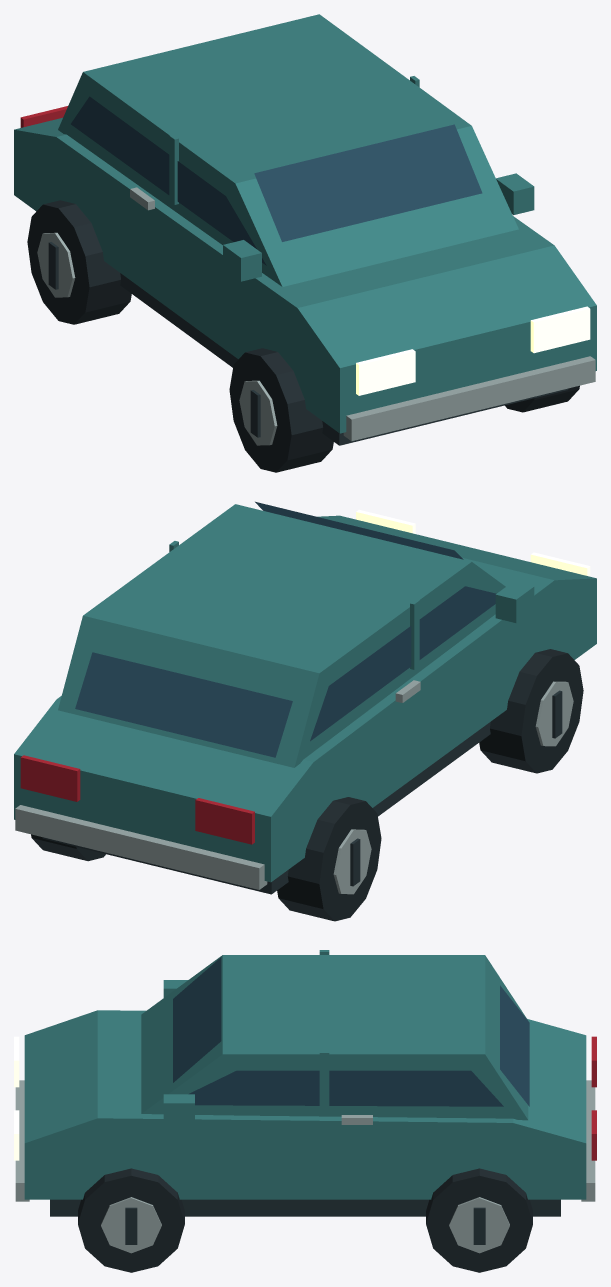
File: car-hatch.glb
The picture shows the model from 3 angles, top to bottom: view 1: azimuth 30°, elevation 25°; view 2: azimuth 150°, elevation 25°; view 3: azimuth 270°, elevation 25°; orthographic projection. The views are drawn at different scales.
Visible parts, largest first — view 1: CivilianRoot_teal, CivilianRoot_glass, CivilianRoot_steel, WheelRearLeft_rubber, WheelFrontLeft_rubber, CivilianRoot_lamp, CivilianRoot_dark, WheelFrontLeft_steel, WheelRearLeft_steel, WheelFrontRight_rubber; view 2: CivilianRoot_teal, CivilianRoot_glass, CivilianRoot_steel, WheelFrontLeft_rubber, WheelRearLeft_rubber, CivilianRoot_red, CivilianRoot_dark, WheelFrontLeft_steel, WheelRearLeft_steel, CivilianRoot_lamp, WheelRearRight_rubber; view 3: CivilianRoot_teal, CivilianRoot_glass, WheelFrontRight_rubber, WheelRearRight_rubber, CivilianRoot_dark, CivilianRoot_steel, WheelFrontRight_steel, WheelRearRight_steel, CivilianRoot_lamp, CivilianRoot_red, WheelFrontRight_dark, WheelRearRight_dark.
Boxes of the visible parts, left/top/right/bottom form: CivilianRoot_teal: left=14, top=14, right=596, bottom=433; CivilianRoot_glass: left=71, top=96, right=482, bottom=265; CivilianRoot_steel: left=130, top=187, right=595, bottom=441; WheelRearLeft_rubber: left=27, top=200, right=131, bottom=324; WheelFrontLeft_rubber: left=229, top=348, right=333, bottom=472; CivilianRoot_lamp: left=356, top=306, right=590, bottom=395; CivilianRoot_dark: left=120, top=273, right=568, bottom=445; WheelFrontLeft_steel: left=239, top=380, right=277, bottom=445; WheelRearLeft_steel: left=37, top=232, right=75, bottom=297; WheelFrontRight_rubber: left=505, top=385, right=579, bottom=412; CivilianRoot_teal: left=14, top=504, right=596, bottom=882; CivilianRoot_glass: left=75, top=501, right=496, bottom=757; CivilianRoot_steel: left=15, top=680, right=420, bottom=889; WheelFrontLeft_rubber: left=479, top=649, right=583, bottom=773; WheelRearLeft_rubber: left=277, top=797, right=381, bottom=921; CivilianRoot_red: left=20, top=755, right=254, bottom=844; CivilianRoot_dark: left=42, top=722, right=490, bottom=894; WheelFrontLeft_steel: left=535, top=681, right=573, bottom=746; WheelRearLeft_steel: left=333, top=829, right=371, bottom=894; CivilianRoot_lamp: left=356, top=509, right=590, bottom=576; WheelRearRight_rubber: left=31, top=834, right=105, bottom=861; CivilianRoot_teal: left=24, top=950, right=586, bottom=1199; CivilianRoot_glass: left=173, top=957, right=529, bottom=1106; WheelFrontRight_rubber: left=78, top=1168, right=184, bottom=1272; WheelRearRight_rubber: left=426, top=1168, right=532, bottom=1272; CivilianRoot_dark: left=50, top=1199, right=560, bottom=1216; CivilianRoot_steel: left=15, top=1080, right=595, bottom=1201; WheelFrontRight_steel: left=101, top=1197, right=161, bottom=1253; WheelRearRight_steel: left=449, top=1197, right=509, bottom=1253; CivilianRoot_lamp: left=14, top=1036, right=19, bottom=1160; CivilianRoot_red: left=591, top=1036, right=596, bottom=1160; WheelFrontRight_dark: left=125, top=1207, right=137, bottom=1244; WheelRearRight_dark: left=473, top=1207, right=485, bottom=1244.
Size of the model in its own units: 1.75 by 1.36 by 3.37.
